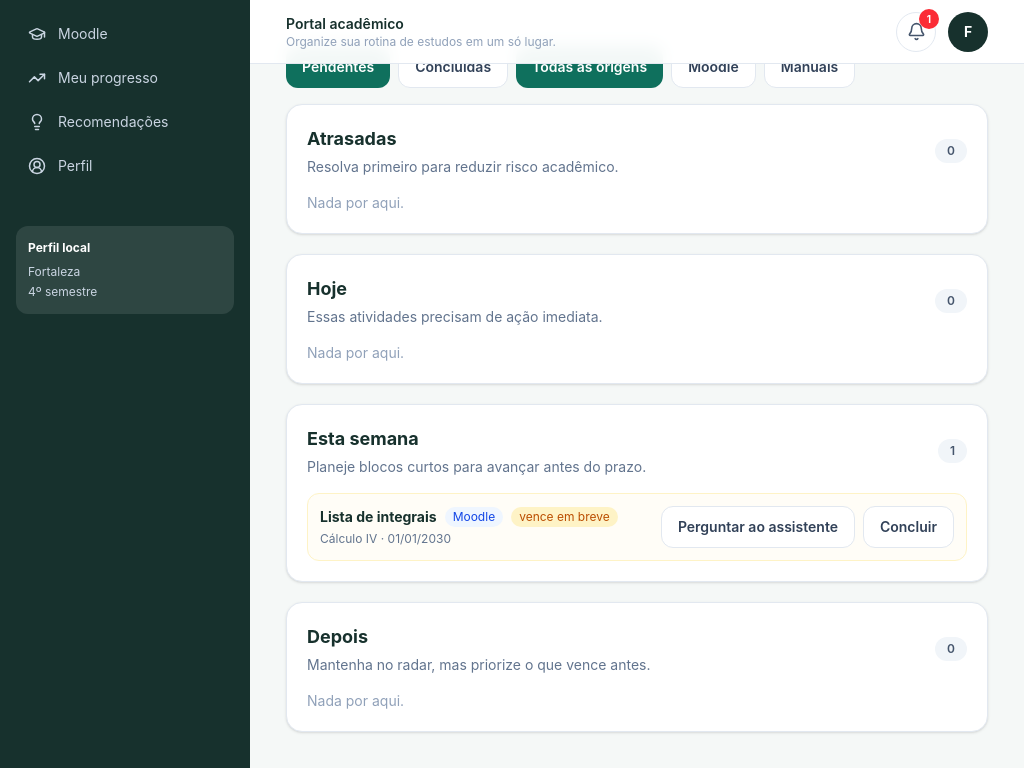
Scenario: Edu Assistant web › opens the chat with a task-specific prompt
(page scrolled)
Check: the heading "Esta semana" is shown, box [307, 428, 419, 449]
Click the button "Perguntar ao assistente": (758, 527) [661, 506, 855, 548]
(page scrolled)
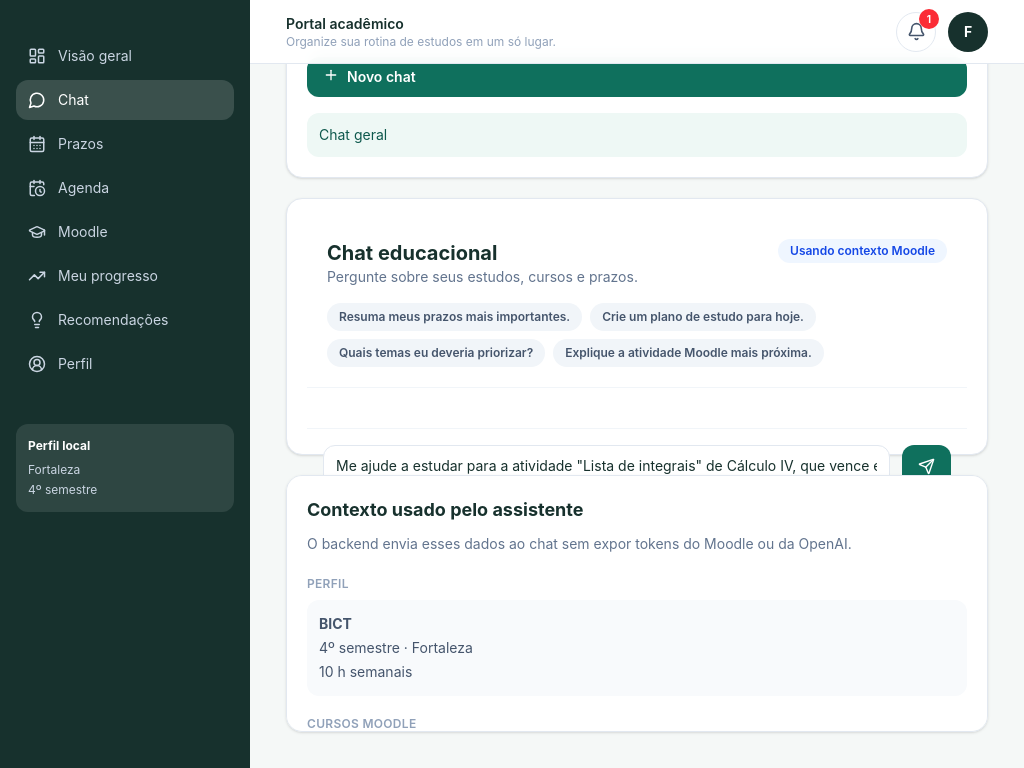
Check: the field showing "Me ajude a estudar para a atividade" is shown, box [323, 445, 890, 487]
